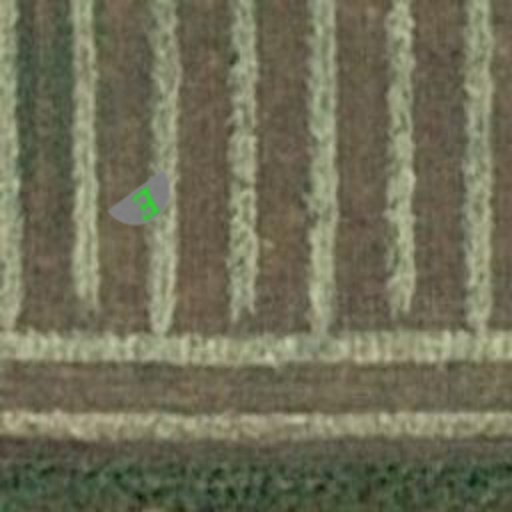semicircle: (96, 154, 196, 254)
